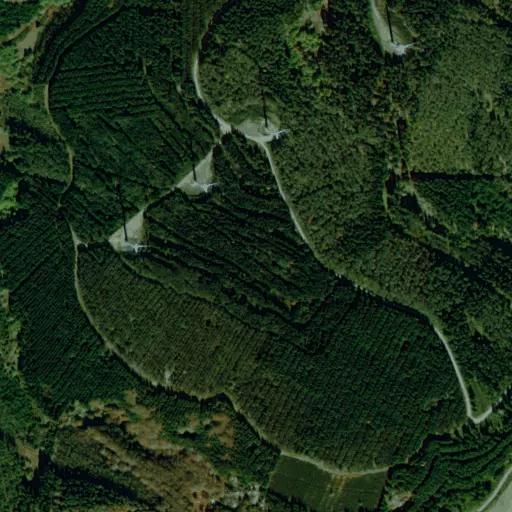wt: (121, 229, 151, 257), (193, 176, 229, 194), (389, 37, 420, 56), (260, 124, 291, 142)
